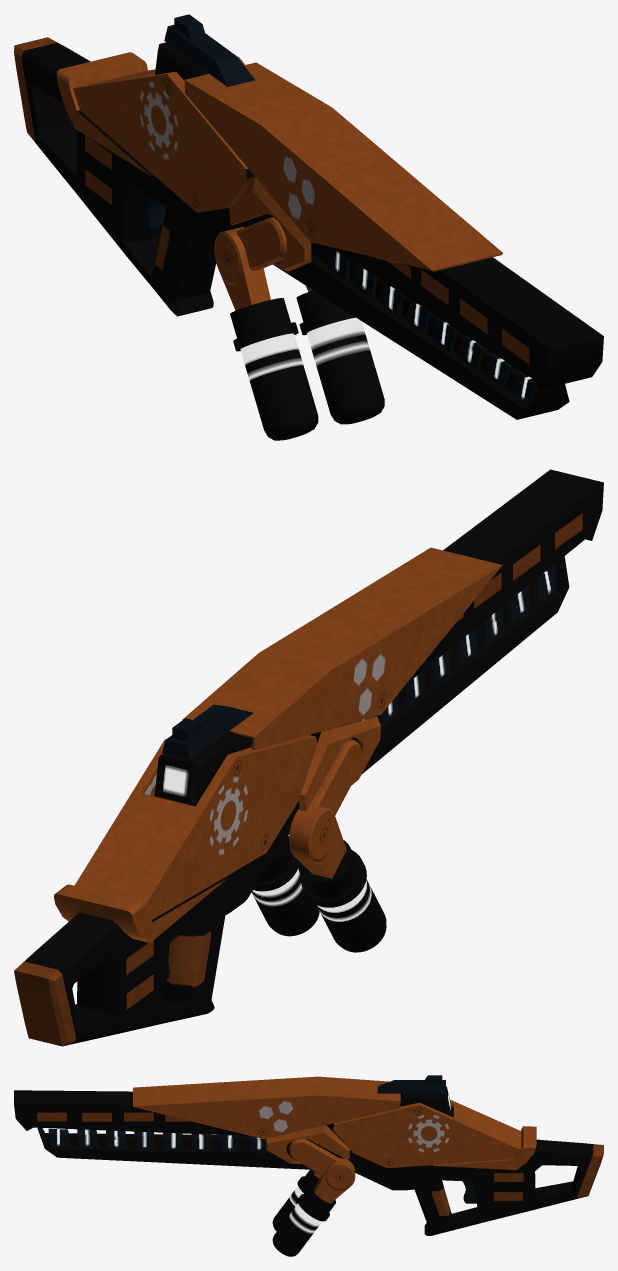
File: SM_Shotgun.fbx
The picture shows the model from 3 angles, top to bottom: view 1: azimuth 30°, elevation 25°; view 2: azimuth 150°, elevation 25°; view 3: azimuth 270°, elevation 25°; orthographic projection. The views are drawn at different scales.
Visible parts, largest first — view 1: Game_Res1; view 2: Game_Res1; view 3: Game_Res1.
Boxes of the visible parts, x1,y1,x2,y2 form: Game_Res1: (14, 14, 603, 440); Game_Res1: (14, 469, 603, 1046); Game_Res1: (14, 1075, 603, 1256).
Size of the model in its own units: 16.45 by 39.9 by 126.
Materials: 1 (1 with a texture image).
